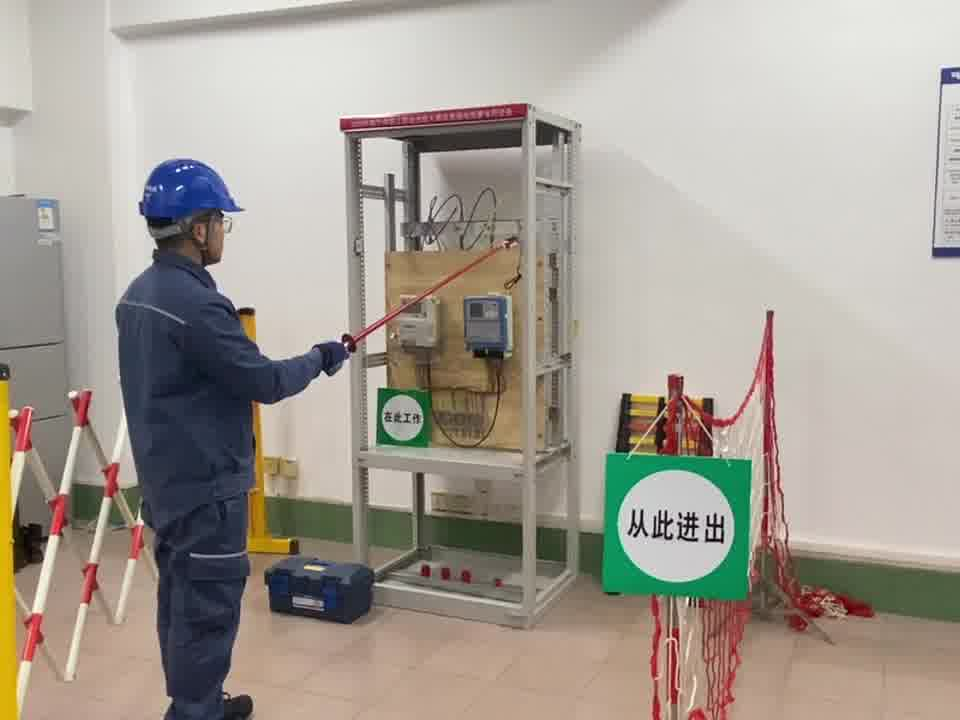downsuit: (147, 506, 255, 720)
glove: (311, 338, 350, 377)
halt: (139, 156, 246, 268)
inear: (182, 211, 224, 262)
intosign: (604, 454, 752, 594)
person: (104, 152, 352, 720)
testrod: (347, 239, 510, 344)
upsuit: (112, 261, 338, 495)
worksign: (376, 388, 428, 447)
